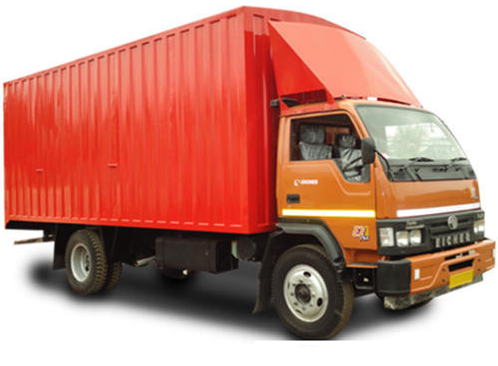truck: (1, 2, 495, 343)
